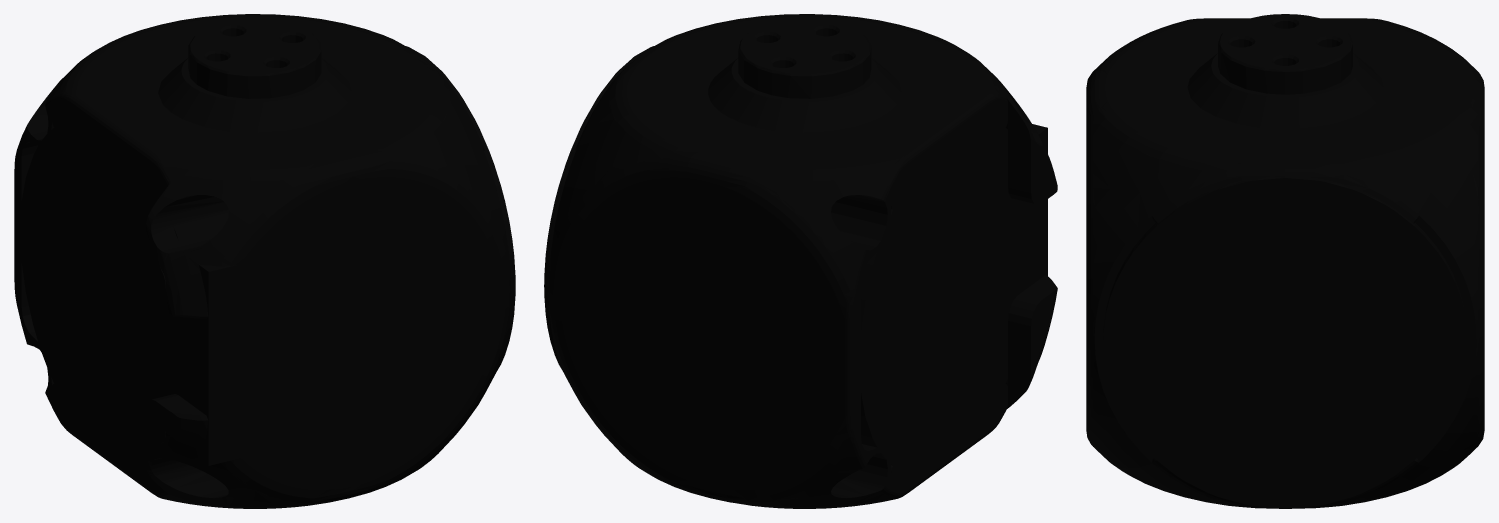
Rendered from right_arm_link6.obj.
3 views of the same model, side by side, from view 1: azimuth 30°, elevation 25°; view 2: azimuth 150°, elevation 25°; view 3: azimuth 270°, elevation 25° (orthographic).
Parts seen in each view (by area): view 1: right_arm_link6; view 2: right_arm_link6; view 3: right_arm_link6.
Part boxes in pixels (bbox=[...]): right_arm_link6: bbox=[14, 14, 515, 508]; right_arm_link6: bbox=[544, 14, 1057, 508]; right_arm_link6: bbox=[1086, 14, 1484, 508].
Size of the model in its own units: 0.0585 by 0.0635 by 0.059.
Materials: 1 (1 with a texture image).
